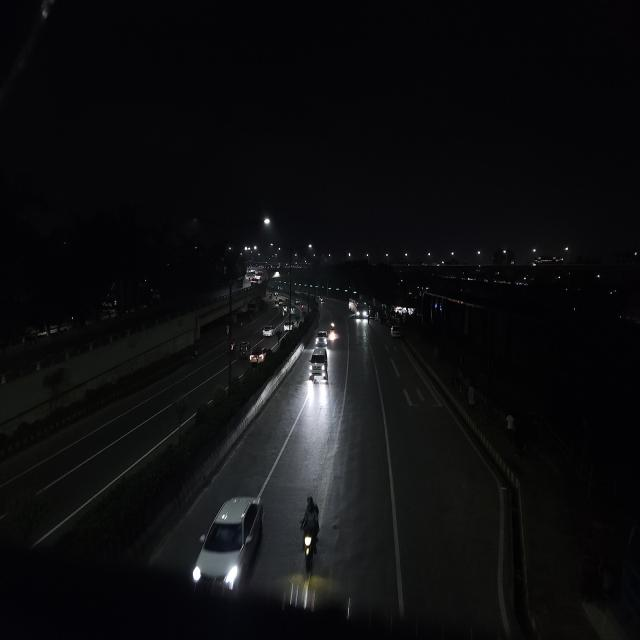bus: (353, 299, 367, 320)
car: (189, 491, 267, 600), (306, 345, 330, 379), (248, 344, 269, 363), (314, 330, 330, 346), (389, 323, 402, 339), (261, 324, 275, 338), (282, 319, 294, 332)
cng: (238, 340, 250, 359)
motorcycle: (292, 485, 326, 569), (229, 339, 236, 356), (328, 317, 337, 330)
pedestrian: (367, 315, 370, 325)
